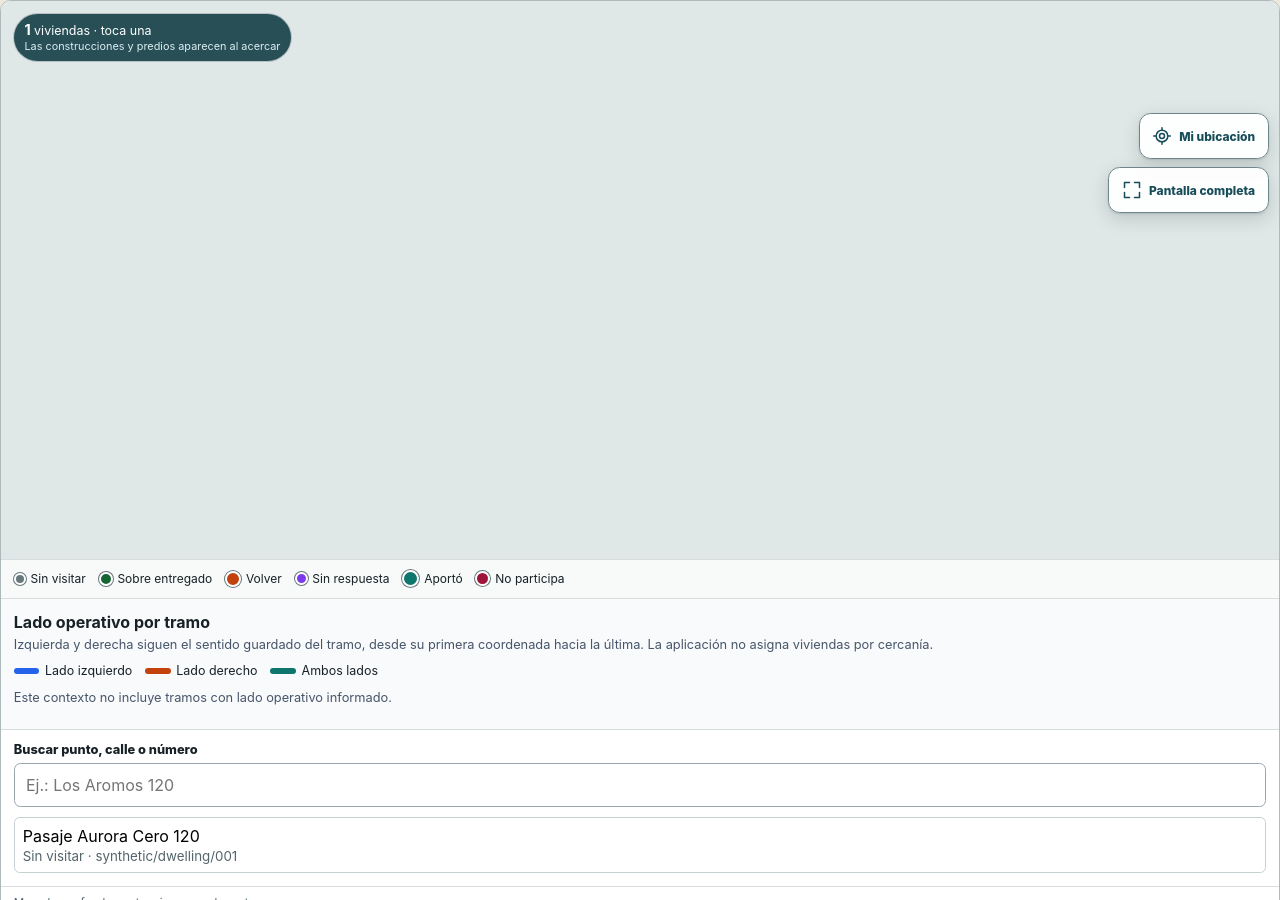
Test: FieldMap map interaction › ofrece pantalla completa CSS si la API móvil la rechaza y permite salir con Escape
Click the button with aria-label "Abrir mapa en pantalla completa" at (1188, 190), box [1108,167,1269,213]
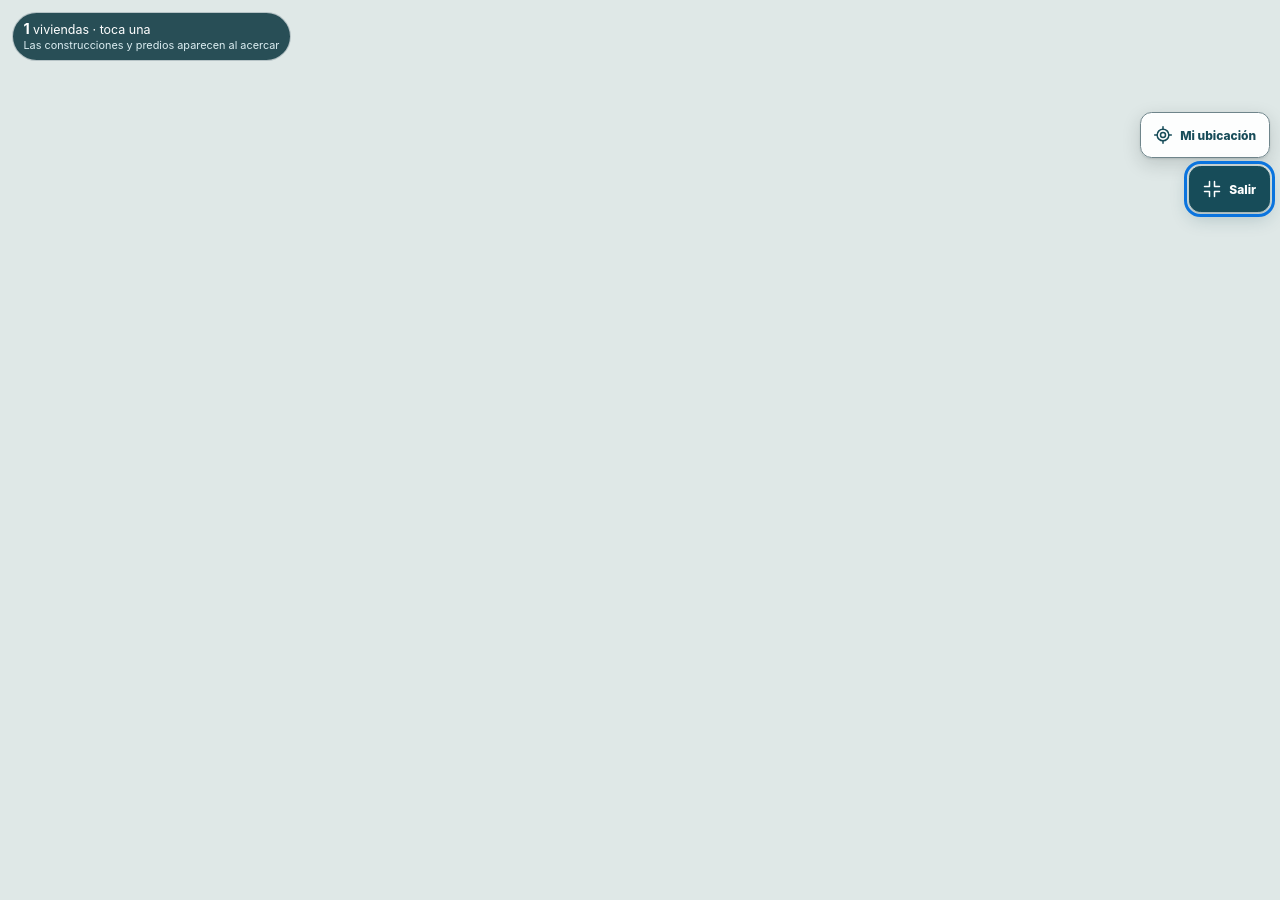
Press Escape
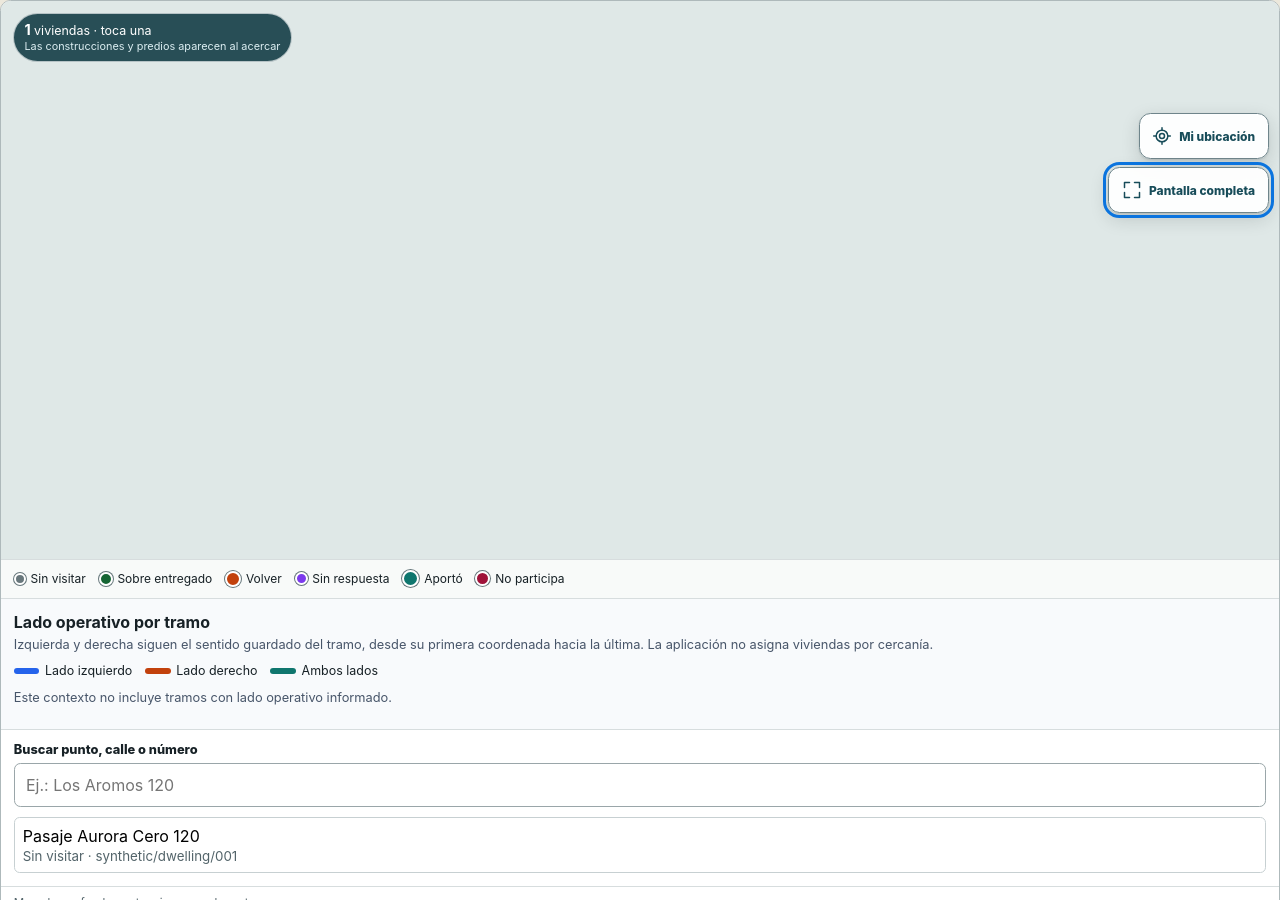
Expected: the button with aria-label "Abrir mapa en pantalla completa" is shown, [1108,167,1269,213]
